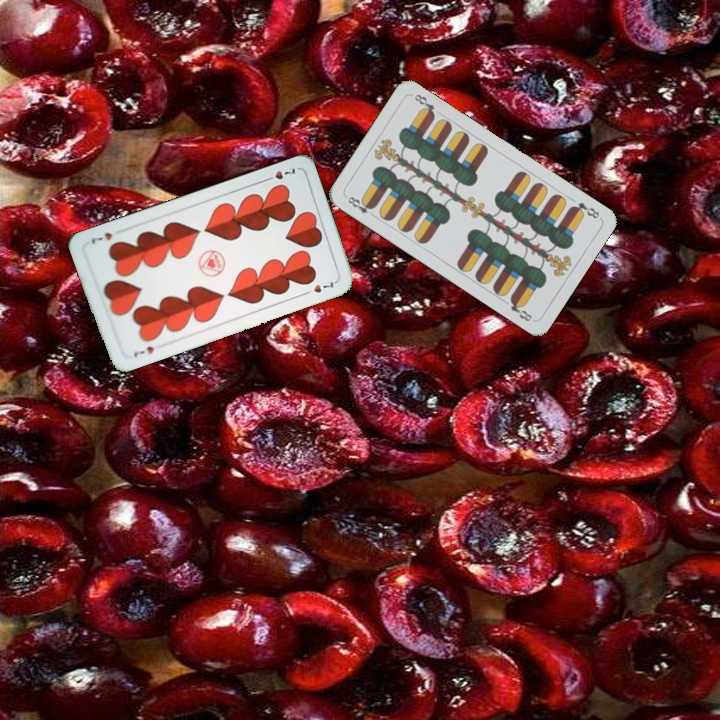E8: (344, 192, 378, 220), (566, 198, 602, 221)
H7: (260, 163, 298, 184), (130, 342, 156, 359)
